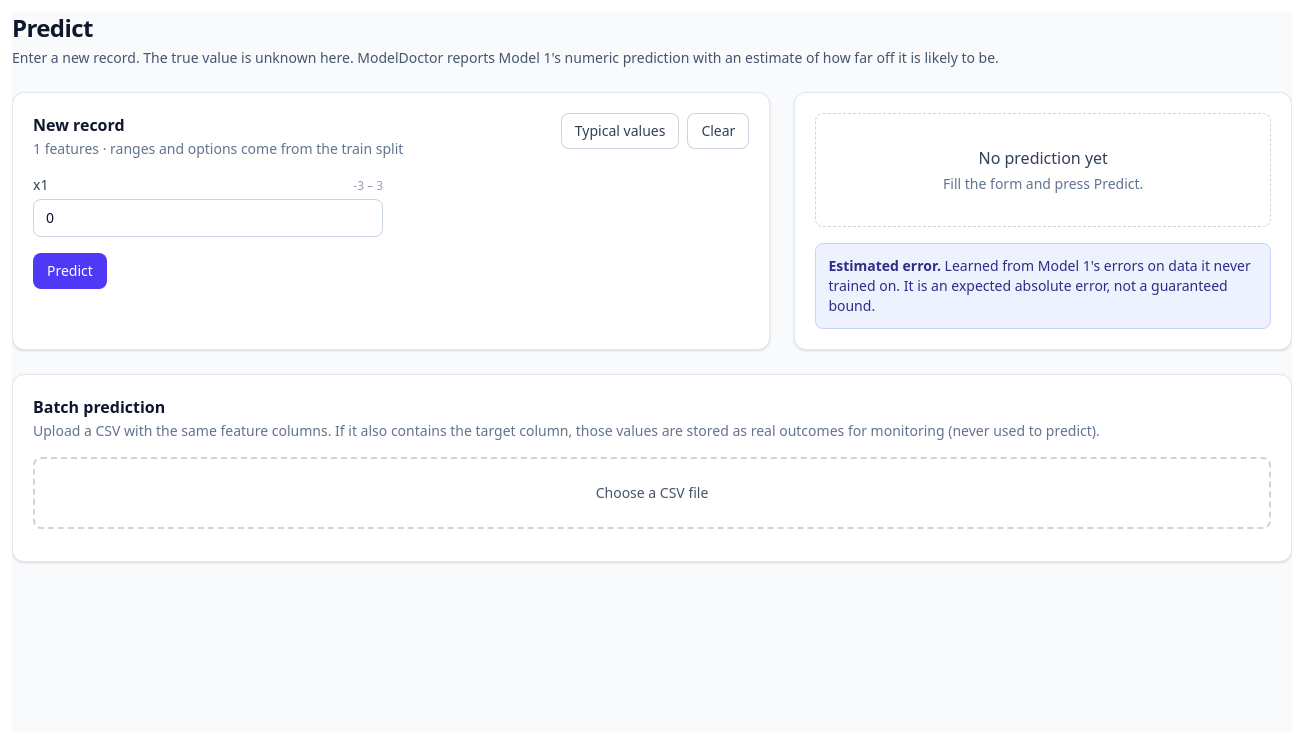
regression prediction › shows a numeric prediction and an estimated error, never class probabilities or trustworthiness
Click the button "Predict".
click(70, 271)  # box top-left (33, 253), bottom-right (107, 289)
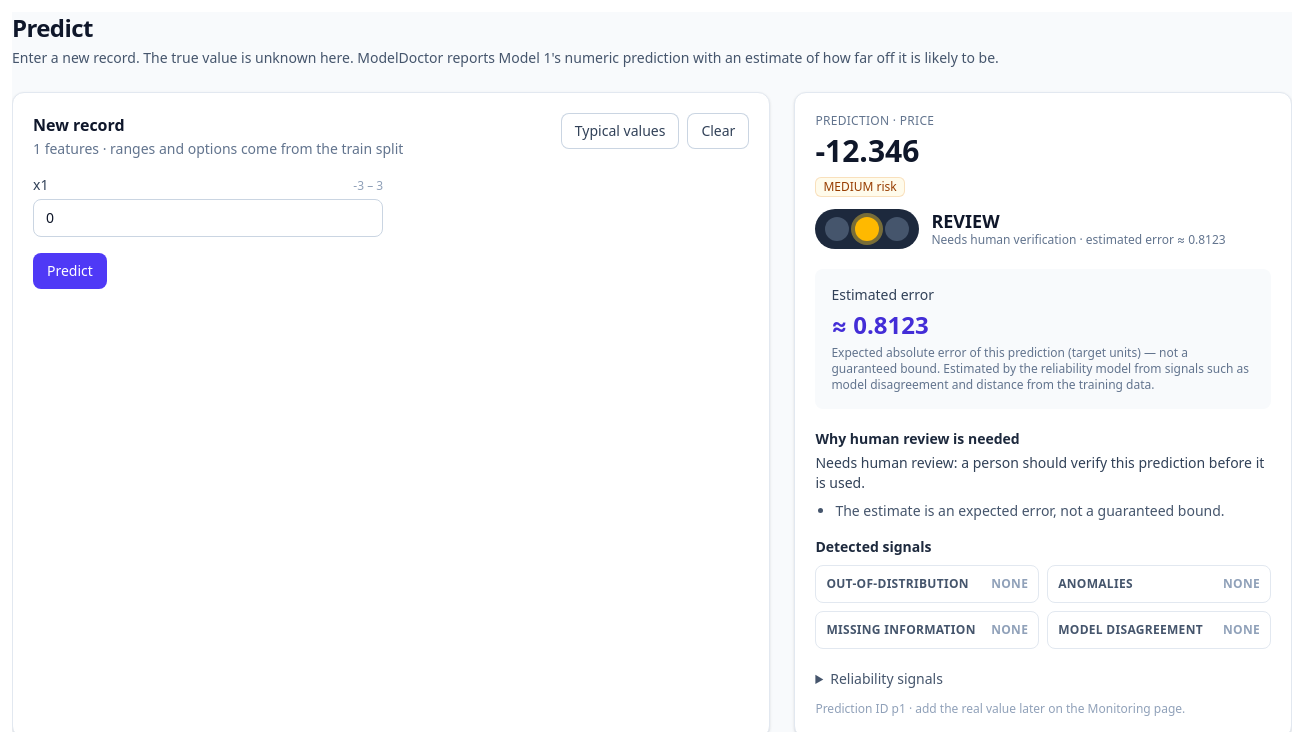
Check: the text with test id "reg-prediction" reads "-12.346", box top-left (815, 130), bottom-right (919, 171)
Check: the text with test id "reg-error" shows "0.8123", box top-left (853, 308), bottom-right (929, 341)
Check: the text "not a guaranteed bound" is shown, box top-left (831, 344), bottom-right (1188, 377)
